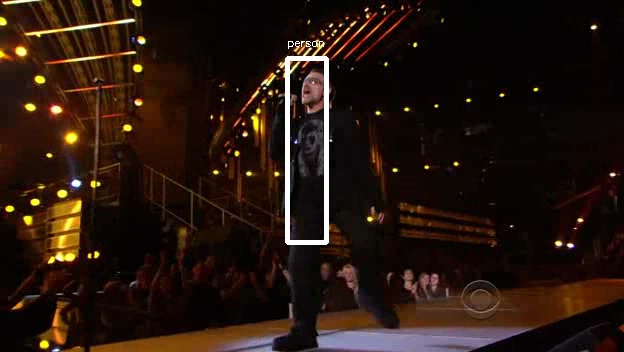person: (279, 71, 371, 242), (276, 71, 368, 242), (282, 71, 374, 242), (279, 68, 371, 239), (279, 74, 371, 245)
target_negative: (384, 12, 485, 324), (241, 151, 542, 246), (428, 146, 578, 282), (102, 33, 456, 55), (511, 100, 577, 170), (3, 320, 425, 324)
